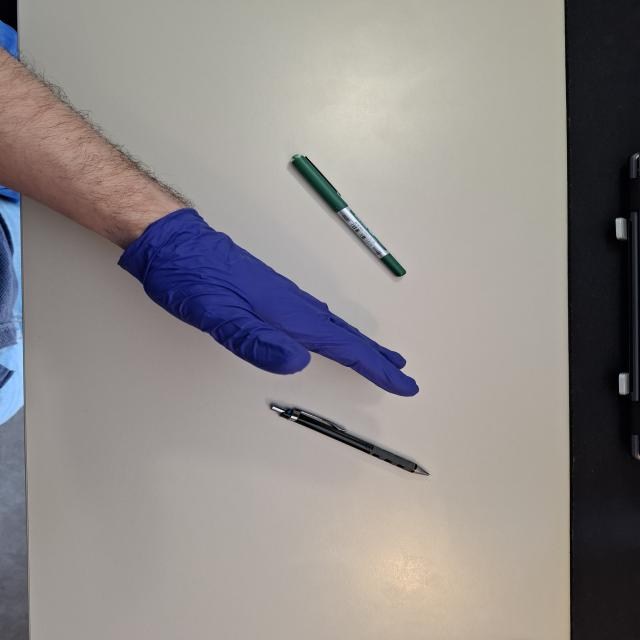glove_on: (113, 203, 421, 400)
